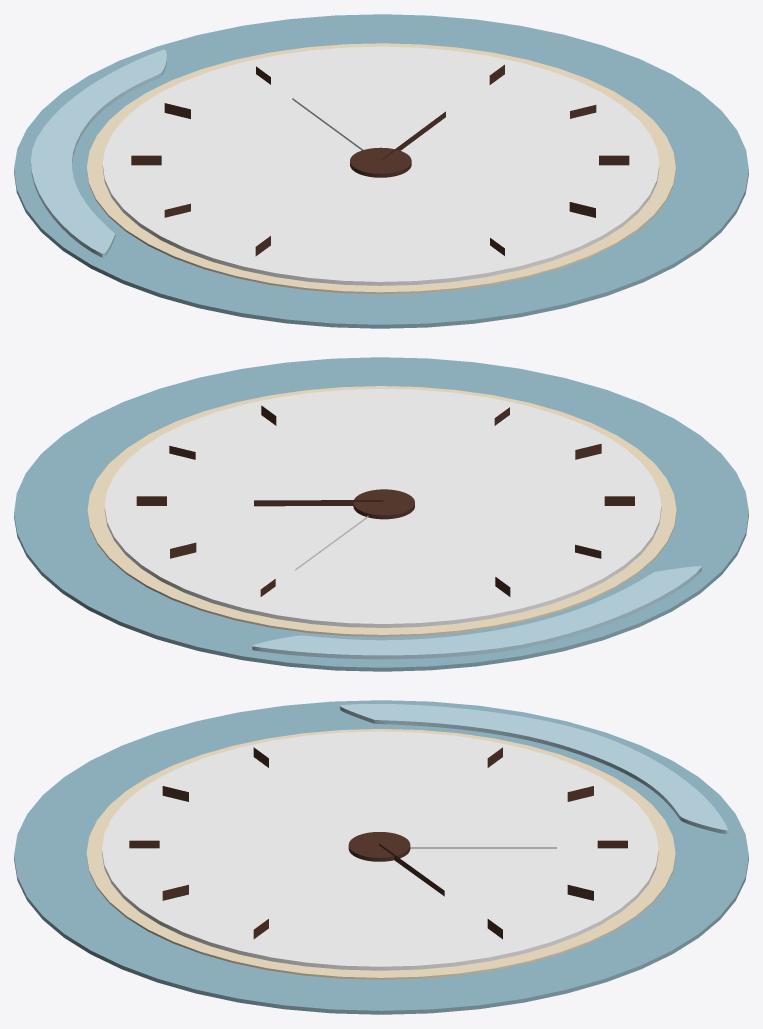
Rendered from emoji_u1f551.glb.
3 views of the same model, one above another, from view 1: azimuth 30°, elevation 25°; view 2: azimuth 150°, elevation 25°; view 3: azimuth 270°, elevation 25° (orthographic).
Parts seen in each view (by area): view 1: emoji_u1f551; view 2: emoji_u1f551; view 3: emoji_u1f551.
Part boxes in pixels (<box>): emoji_u1f551: <box>14,14,748,328</box>; emoji_u1f551: <box>14,357,748,671</box>; emoji_u1f551: <box>14,700,748,1014</box>.
Bounding box in the file's own units: 0.0339 × 0.0018 × 0.0339.
